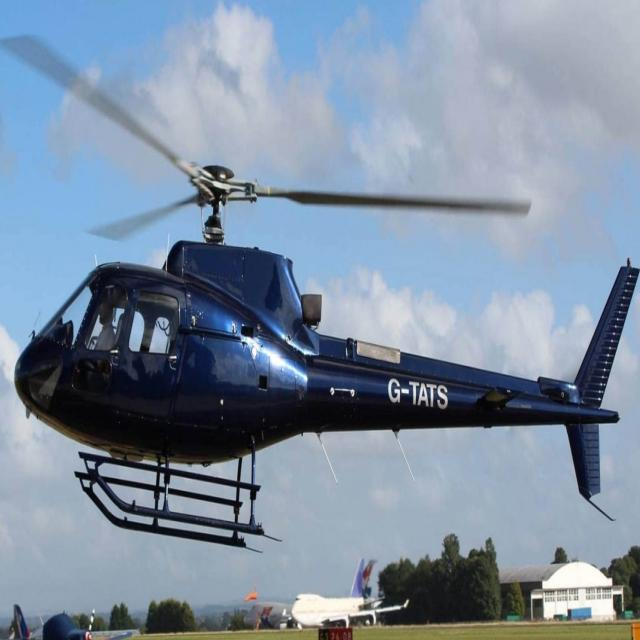helicopter: (16, 38, 640, 561)
